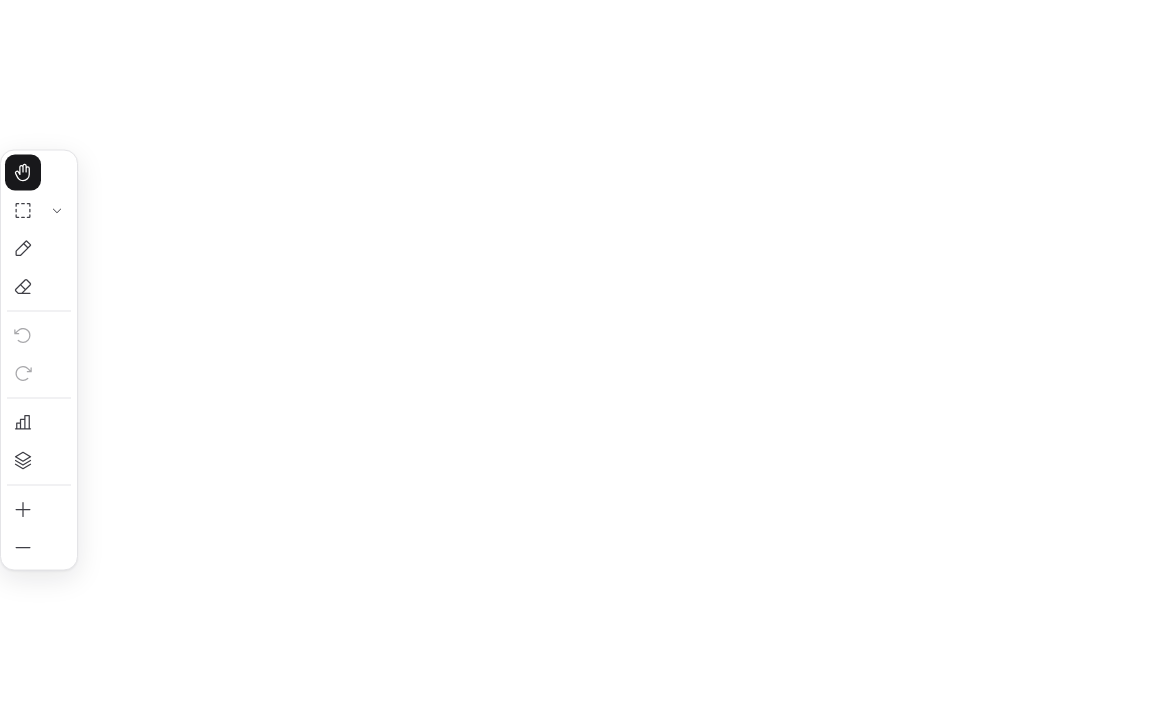
Test case: MapTools › shows the vegetation as a tile that waits while its data comes
Click the button named "Layers" at [23, 460], box [5,442,41,478]
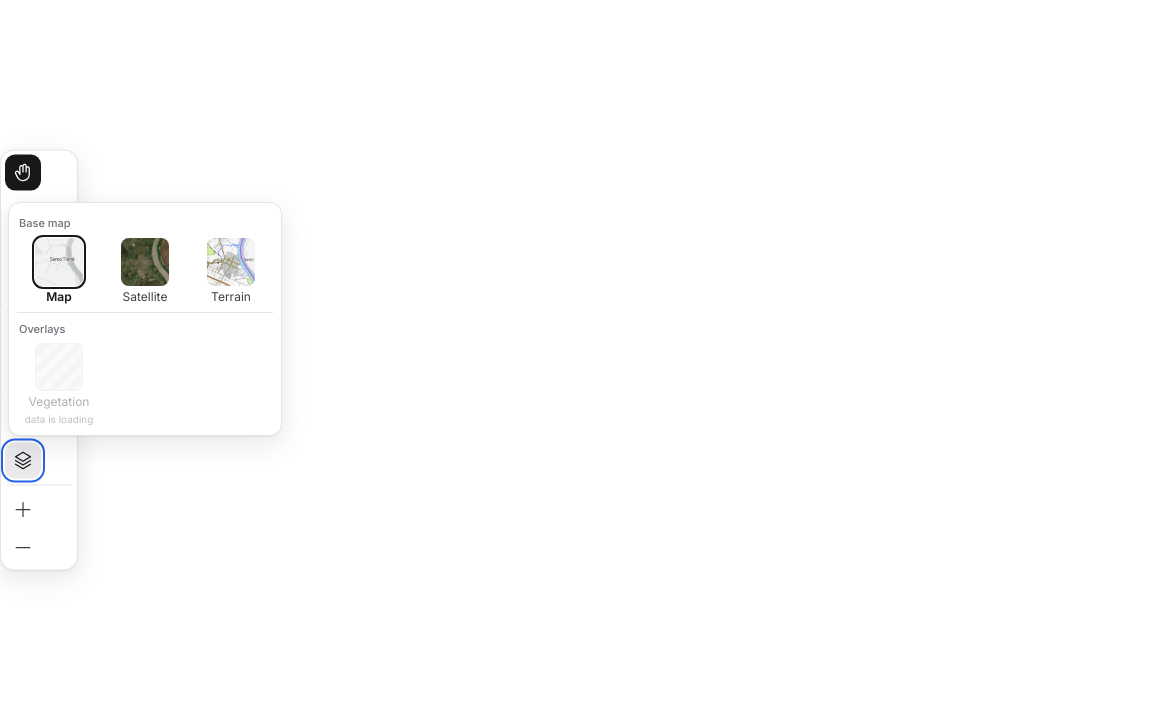
Expected: the button "Vegetation data is loading" is disabled, [17,341,101,427]
Expected: the button "Vegetation data is loading" is shown, [17,341,101,427]
